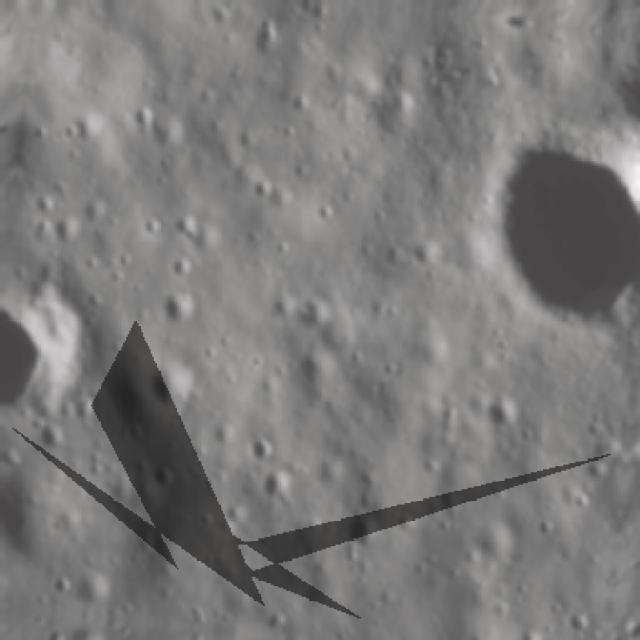crater: (444, 86, 640, 341), (0, 276, 97, 438), (143, 360, 211, 425), (470, 372, 532, 437), (555, 600, 596, 637), (298, 297, 336, 334)
